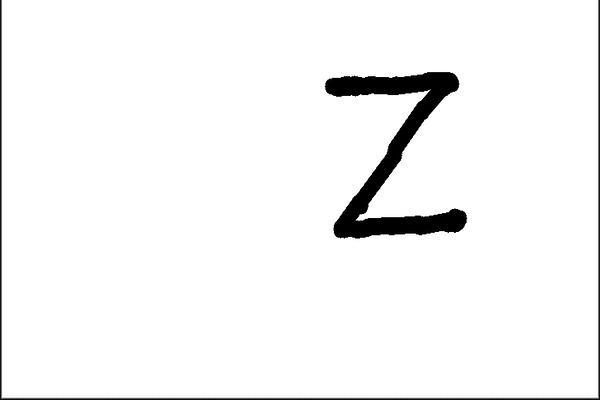Z: (313, 65, 471, 243)
